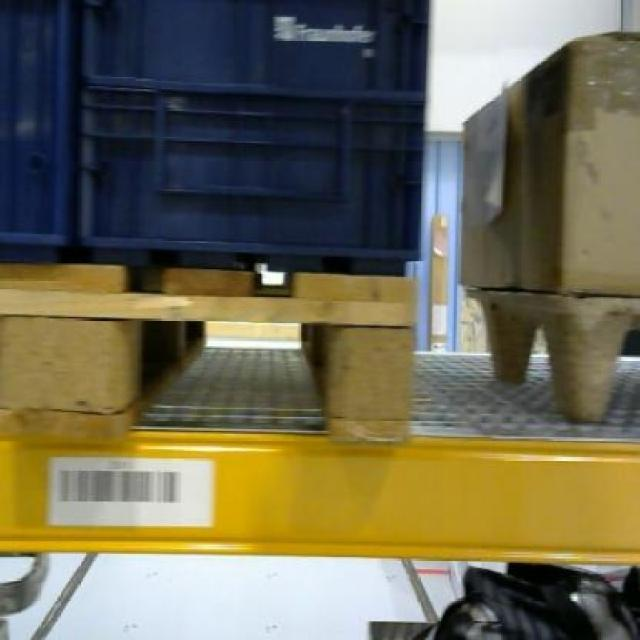box: (460, 28, 638, 287)
